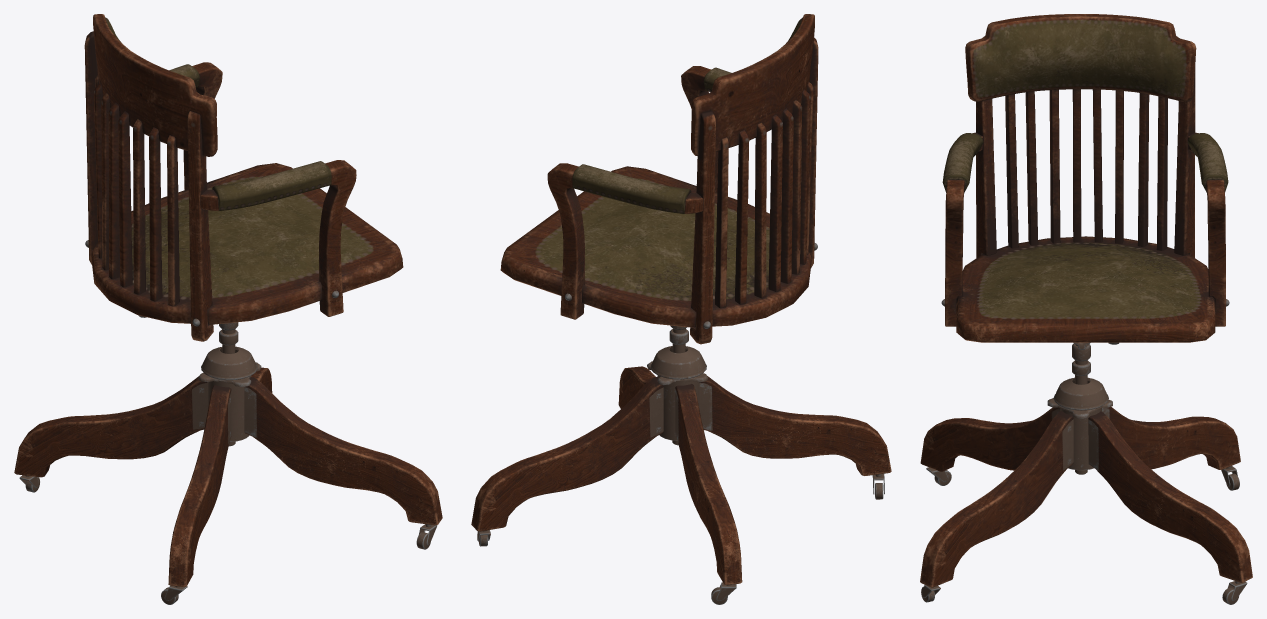
The model's file is antique_bureau_chair.glb.
The picture shows the model from 3 angles, left to right: view 1: azimuth 30°, elevation 25°; view 2: azimuth 150°, elevation 25°; view 3: azimuth 270°, elevation 25°; orthographic projection. The views are drawn at different scales.
Parts seen in each view (by area): view 1: polySurface2709, textureEditorIsolateSelectSet; view 2: polySurface2709, textureEditorIsolateSelectSet; view 3: polySurface2709, textureEditorIsolateSelectSet.
Boxes of the visible parts, box(x1,y1,x2,y2) form: polySurface2709: box(14, 14, 442, 604); textureEditorIsolateSelectSet: box(84, 31, 213, 341); polySurface2709: box(471, 14, 891, 604); textureEditorIsolateSelectSet: box(690, 37, 818, 344); polySurface2709: box(920, 14, 1252, 604); textureEditorIsolateSelectSet: box(976, 66, 1195, 257).
Size of the model in its own units: 51.36 by 88.25 by 55.18.
Materials: 1 (1 with a texture image).
